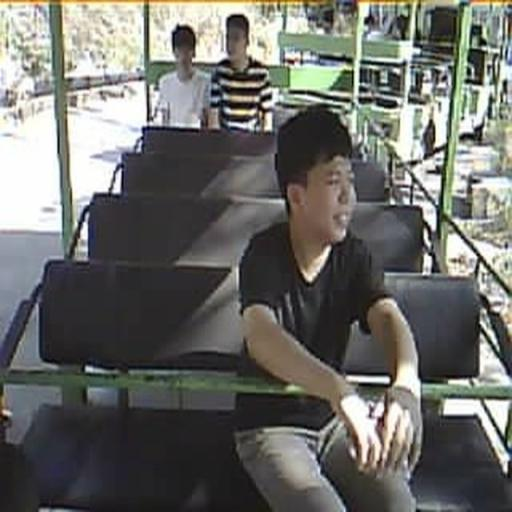persona: (232, 103, 424, 510), (207, 13, 275, 135), (154, 24, 211, 129)
